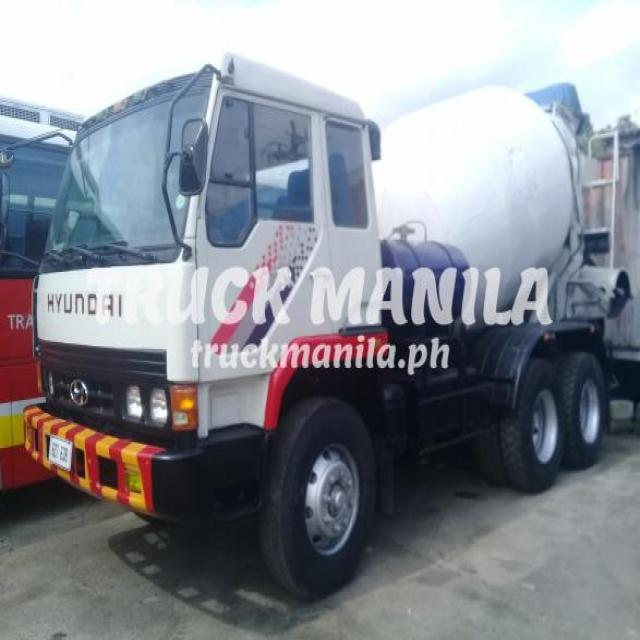Mixer Truck: (21, 46, 631, 604)
